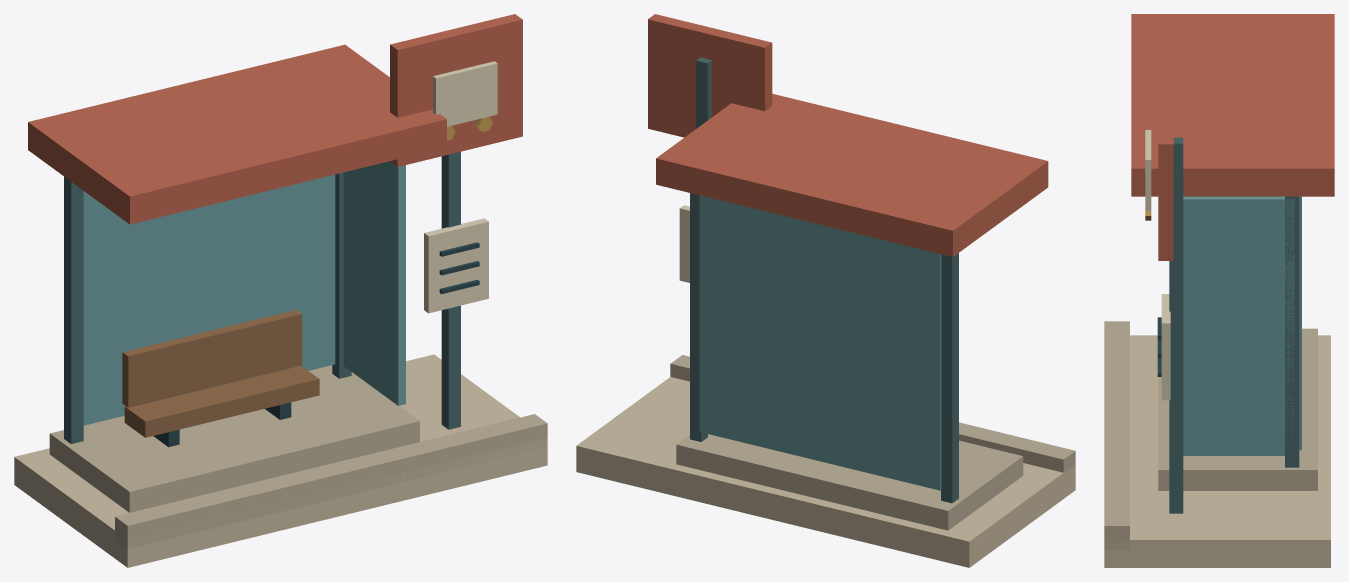
The model's file is bus-stop-sunrise-complete.glb.
3 views of the same model, side by side, from view 1: azimuth 30°, elevation 25°; view 2: azimuth 150°, elevation 25°; view 3: azimuth 270°, elevation 25° (orthographic). The views are drawn at different scales.
Visible parts, largest first — view 1: bus-stop; view 2: bus-stop; view 3: bus-stop.
Part boxes in pixels (left/top/right/bottom): bus-stop: left=14, top=14, right=547, bottom=567; bus-stop: left=576, top=14, right=1075, bottom=567; bus-stop: left=1104, top=14, right=1334, bottom=567.
Size of the model in its own units: 1.89 by 1.82 by 0.895.
